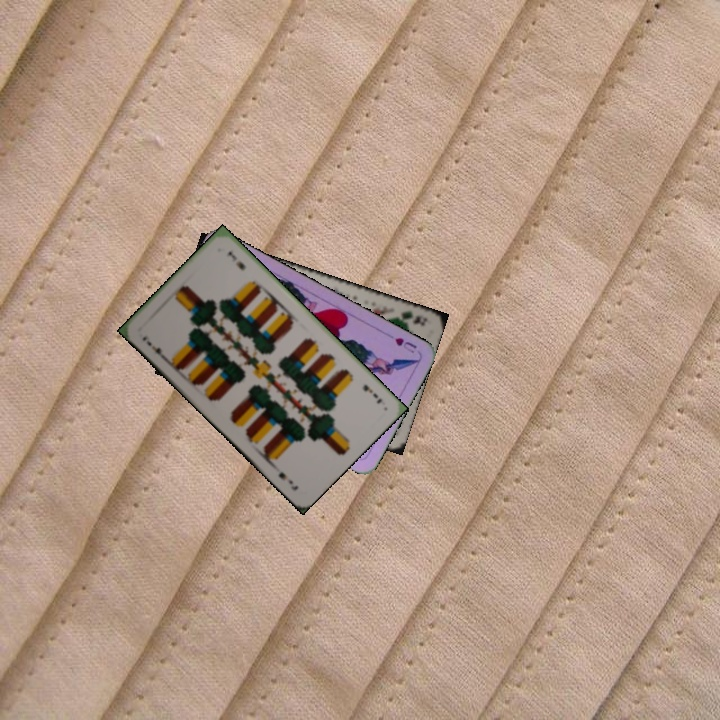E7: (138, 331, 169, 362), (359, 380, 384, 407)
GK: (388, 307, 430, 329)
HU: (390, 333, 419, 356)
